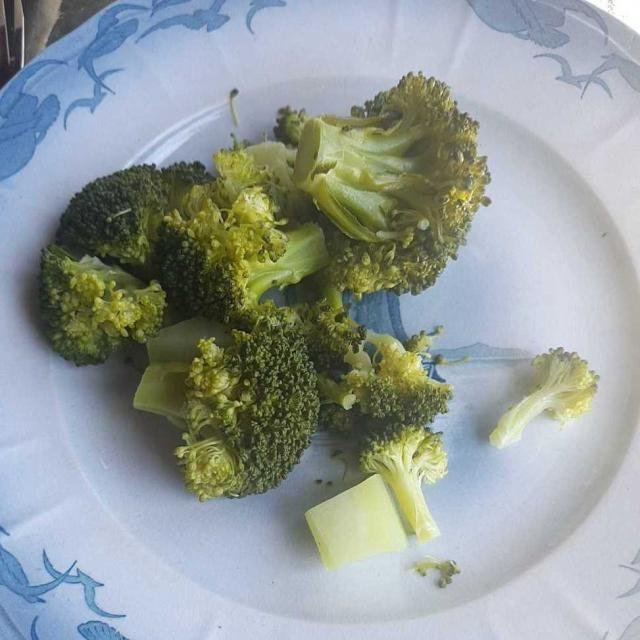broccoli: (36, 73, 602, 597)
